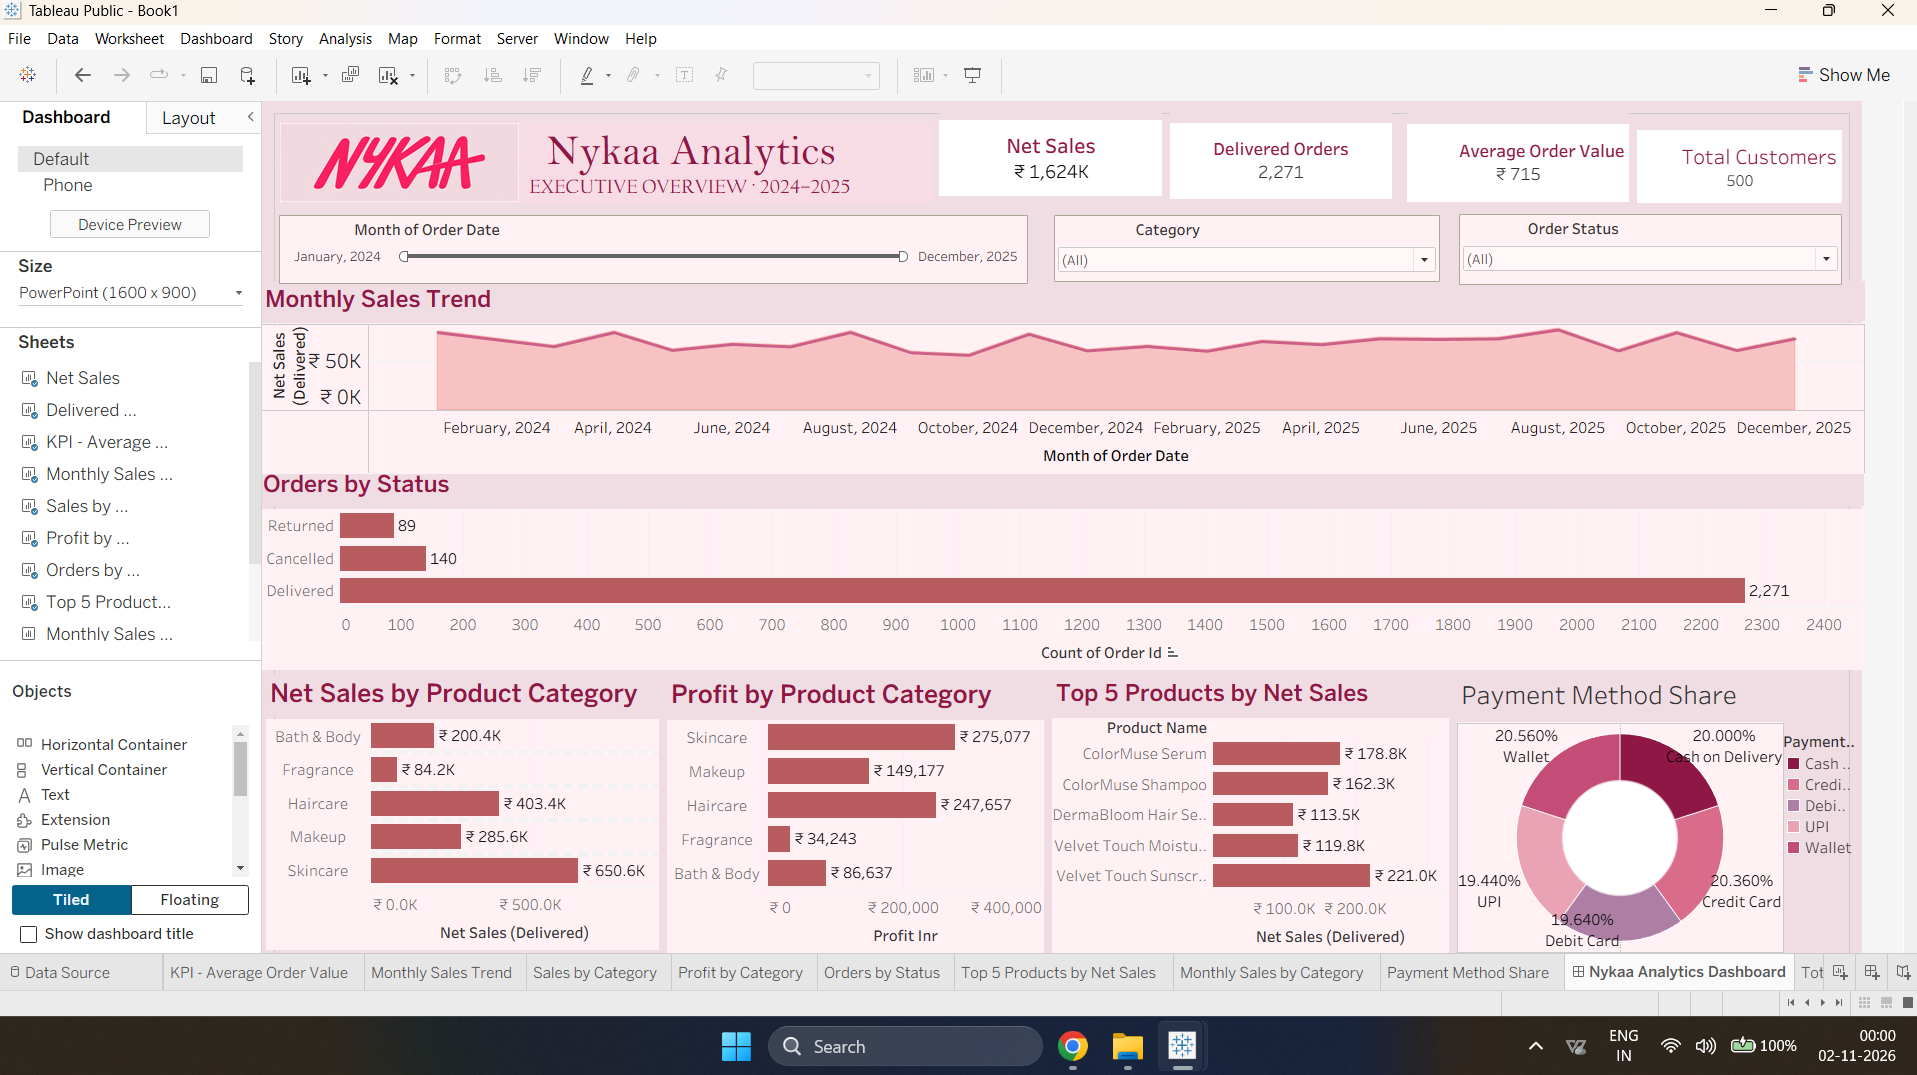

The page's visual inventory and layout, read from the dashboard file:
{"tool":"tableau","page":{"name":"Nykaa Analytics Dashboard","canvas":[1600,900],"ordinal":0},"visuals":[{"type":"worksheet","title":"Net Sales","mark":"Automatic","box":[677,4,223,91]},{"type":"worksheet","title":"Delivered Orders","mark":"Automatic","box":[908,7,222,91]},{"type":"image","box":[8,8,1584,884]},{"type":"worksheet","title":"KPI - Average Order Value","mark":"Automatic","box":[1145,8,222,93]},{"type":"worksheet","title":"Total Customers","mark":"Automatic","box":[1375,14,205,88]},{"type":"image","param":"C:/Users/saksh/Downloads/Nykaa Pink Brush Logo (1).png","box":[17,16,240,91]},{"type":"title","box":[153,21,519,81]},{"type":"image","param":"C:/Users/saksh/Pictures/Screenshots/1.png","box":[681,32,62,48]},{"type":"image","param":"C:/Users/saksh/Pictures/Screenshots/3.png","box":[1144,34,45,41]},{"type":"image","param":"C:/Users/saksh/Pictures/Screenshots/2.png","box":[907,37,47,38]},{"type":"image","param":"C:/Users/saksh/Pictures/Screenshots/Screenshot 2026-10-23 132310.png","box":[1376,45,38,42]},{"type":"image","param":"C:/Users/saksh/Pictures/Screenshots/Screenshot 2026-10-23 132325.png","box":[1227,112,34,32]},{"type":"image","param":"C:/Users/saksh/Pictures/Screenshots/Screenshot 2026-10-23 132320.png","box":[825,113,44,33]},{"type":"filter","title":"Monthly Sales Trend","param":"[federated.10zpdnb0uusdoy1329i6q0aedwej].[none:order_status:nk]","box":[1197.3,113.2,383.3,70.9]},{"type":"filter","title":"Monthly Sales Trend","param":"[federated.10zpdnb0uusdoy1329i6q0aedwej].[tmn:order_date:qk]","box":[17,114,749,69]},{"type":"filter","title":"Monthly Sales Trend","param":"[federated.10zpdnb0uusdoy1329i6q0aedwej].[none:category:nk]","box":[792,114,386,67]},{"type":"image","param":"C:/Users/saksh/Pictures/Screenshots/Screenshot 2026-10-23 132315.png","box":[21,116,103,27]},{"type":"worksheet","title":"Payment Method Share","mark":"Pie","cols":["Calculation_0809298466635778","Calculation_0809298466635778"],"box":[1195,572,327,280]},{"type":"worksheet","title":"Sales by Category","mark":"Automatic","rows":["category"],"cols":["Calculation_1039368420155392"],"box":[4,573,393,276]},{"type":"worksheet","title":"Profit by Category","mark":"Automatic","rows":["category"],"cols":["profit_inr"],"box":[405,574,377,278]},{"type":"worksheet","title":"Top 5 Products by Net Sales","mark":"Automatic","rows":["product_name"],"cols":["Calculation_1039368420155392"],"box":[790,574,397,279]},{"type":"legend","title":"Payment Method Share","param":"[federated.10zpdnb0uusdoy1329i6q0aedwej].[none:payment_method:nk]","box":[1521,630,73,212]}]}

Visuals, with their boxes on the page's 1600x900 design canvas (x1, y1, x2, y2). These are canvas units, not pixel positions in the 1917x1075 screenshot, which may show the page scaled, cropped or inside an application window:
"Net Sales" worksheet: 677 4 900 95
"Delivered Orders" worksheet: 908 7 1130 98
image: 8 8 1592 892
"KPI - Average Order Value" worksheet: 1145 8 1367 101
"Total Customers" worksheet: 1375 14 1580 102
image: 17 16 257 107
title: 153 21 672 102
image: 681 32 743 80
image: 1144 34 1189 75
image: 907 37 954 75
image: 1376 45 1414 87
image: 1227 112 1261 144
image: 825 113 869 146
"Monthly Sales Trend" filter: 1197 113 1581 184
"Monthly Sales Trend" filter: 17 114 766 183
"Monthly Sales Trend" filter: 792 114 1178 181
image: 21 116 124 143
"Payment Method Share" worksheet (Pie marks): 1195 572 1522 852
"Sales by Category" worksheet: 4 573 397 849
"Profit by Category" worksheet: 405 574 782 852
"Top 5 Products by Net Sales" worksheet: 790 574 1187 853
"Payment Method Share" legend: 1521 630 1594 842
